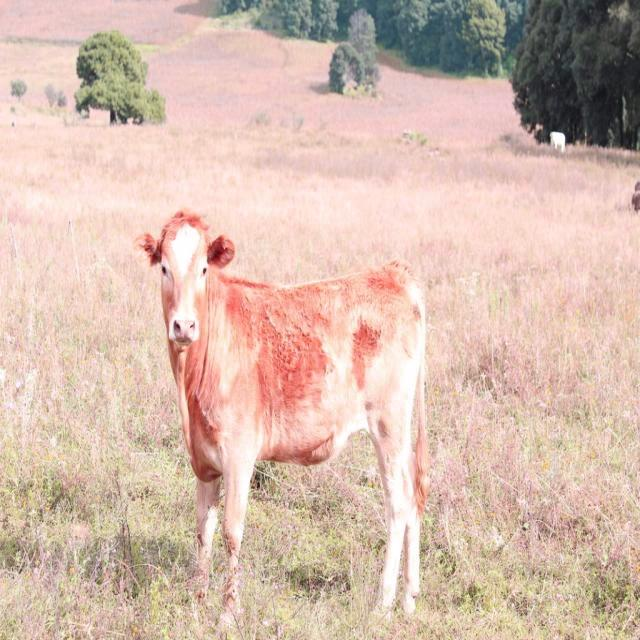cow: (139, 212, 428, 617)
